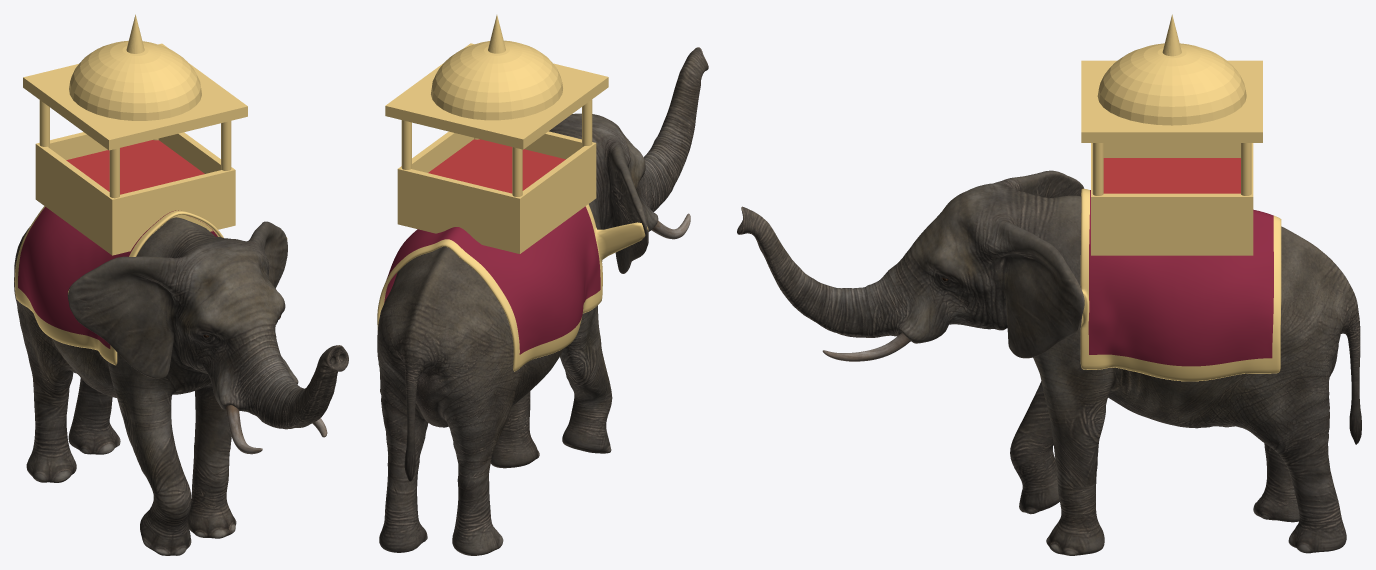
The model's file is puru_elephant.glb.
The picture shows the model from 3 angles, left to right: view 1: azimuth 30°, elevation 25°; view 2: azimuth 150°, elevation 25°; view 3: azimuth 270°, elevation 25°; orthographic projection. The views are drawn at different scales.
Parts seen in each view (by area): view 1: node_id511, caparison, Sphere, Cube.006, Cube.004, Cube.001, Cube, Cube.002, Cube.003, Cube.005, Cylinder, Cylinder.002 (+1 smaller); view 2: node_id511, caparison, Sphere, Cube.006, Cube, Cube.005, Cube.001, Cube.002, Cube.003, Cube.004, Cylinder.001, Cylinder.003 (+2 smaller); view 3: node_id511, caparison, Sphere, Cube.006, Cube.003, Cube.001, Cube, Cube.002.
Part boxes in pixels (x1=…): node_id511: x1=14, y1=217, x2=348, y2=555; caparison: x1=14, y1=206, x2=287, y2=365; Sphere: x1=69, y1=40, x2=201, y2=120; Cube.006: x1=23, y1=43, x2=247, y2=150; Cube.004: x1=109, y1=169, x2=235, y2=232; Cube.001: x1=66, y1=140, x2=204, y2=194; Cube: x1=35, y1=177, x2=235, y2=255; Cube.002: x1=35, y1=143, x2=118, y2=232; Cube.003: x1=158, y1=132, x2=235, y2=204; Cube.005: x1=35, y1=132, x2=107, y2=178; Cylinder: x1=109, y1=148, x2=119, y2=198; Cylinder.002: x1=221, y1=121, x2=231, y2=170; node_id511: x1=377, y1=47, x2=708, y2=555; caparison: x1=377, y1=204, x2=648, y2=371; Sphere: x1=431, y1=40, x2=562, y2=120; Cube.006: x1=385, y1=43, x2=608, y2=149; Cube: x1=397, y1=176, x2=596, y2=253; Cube.005: x1=397, y1=167, x2=523, y2=230; Cube.001: x1=428, y1=139, x2=565, y2=193; Cube.002: x1=514, y1=142, x2=596, y2=231; Cube.003: x1=397, y1=131, x2=473, y2=202; Cube.004: x1=524, y1=131, x2=596, y2=173; Cylinder.001: x1=512, y1=147, x2=522, y2=196; Cylinder.003: x1=401, y1=120, x2=411, y2=169; node_id511: x1=737, y1=170, x2=1361, y2=555; caparison: x1=1080, y1=188, x2=1281, y2=381; Sphere: x1=1097, y1=43, x2=1246, y2=125; Cube.006: x1=1081, y1=60, x2=1262, y2=142; Cube.003: x1=1091, y1=193, x2=1253, y2=231; Cube.001: x1=1103, y1=158, x2=1240, y2=193; Cube: x1=1091, y1=231, x2=1253, y2=255; Cube.002: x1=1103, y1=143, x2=1240, y2=157.
Size of the model in its own units: 2.23 by 4.76 by 5.19.
Materials: 5 (1 with a texture image).
